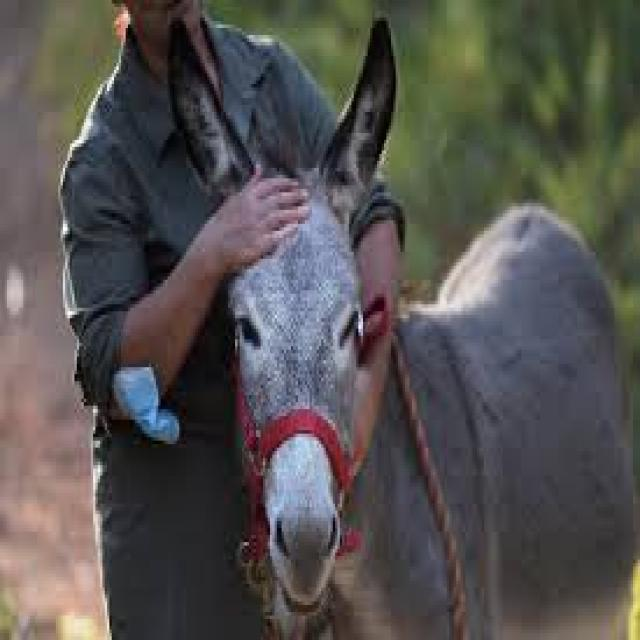Donkey: (164, 10, 640, 639)
